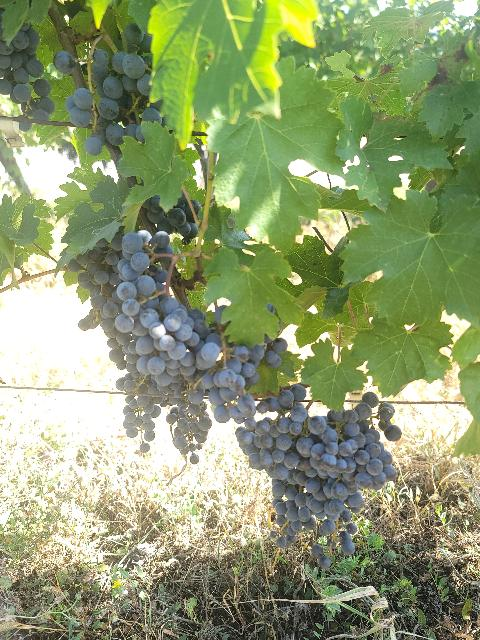grapes: (70, 230, 220, 389), (310, 391, 401, 555), (238, 384, 325, 549), (65, 22, 162, 150), (0, 24, 55, 121), (214, 345, 265, 422), (115, 374, 155, 452), (174, 389, 212, 465)
